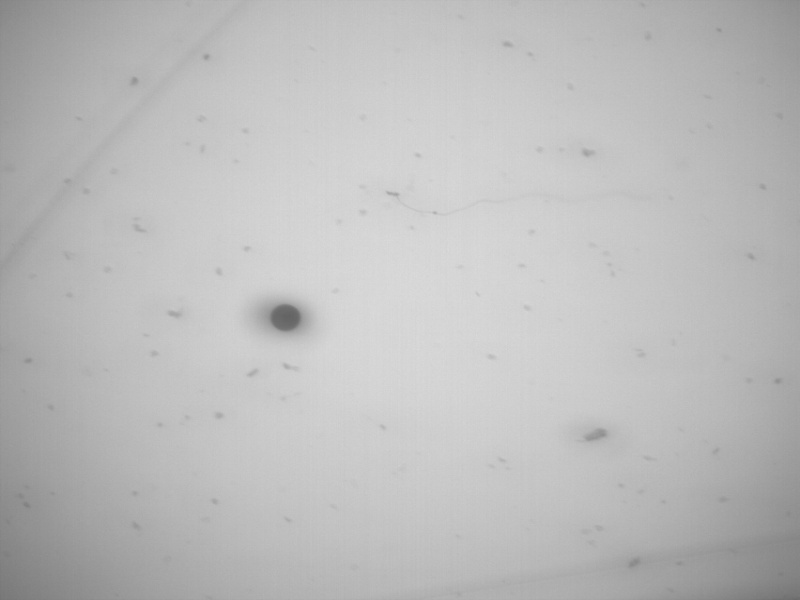bead: (270, 302, 302, 332)
fiber: (386, 189, 648, 216)
